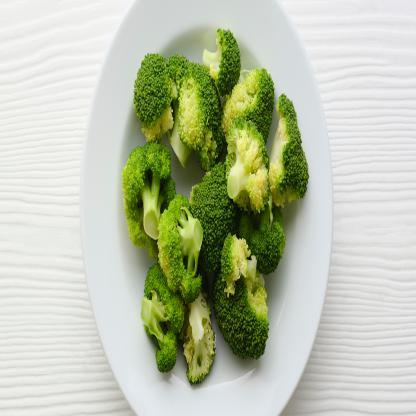broccoli: (118, 23, 309, 388)
